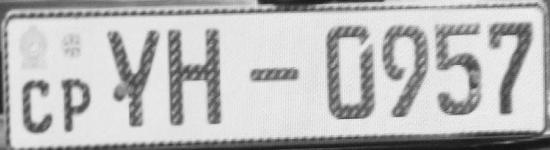-: (248, 62, 305, 88)
0: (322, 17, 380, 124)
5: (432, 18, 488, 127)
7: (488, 16, 536, 125)
9: (381, 21, 430, 127)
C: (17, 75, 60, 141)
H: (167, 24, 232, 138)
P: (59, 74, 100, 139)
Y: (104, 24, 164, 135)
